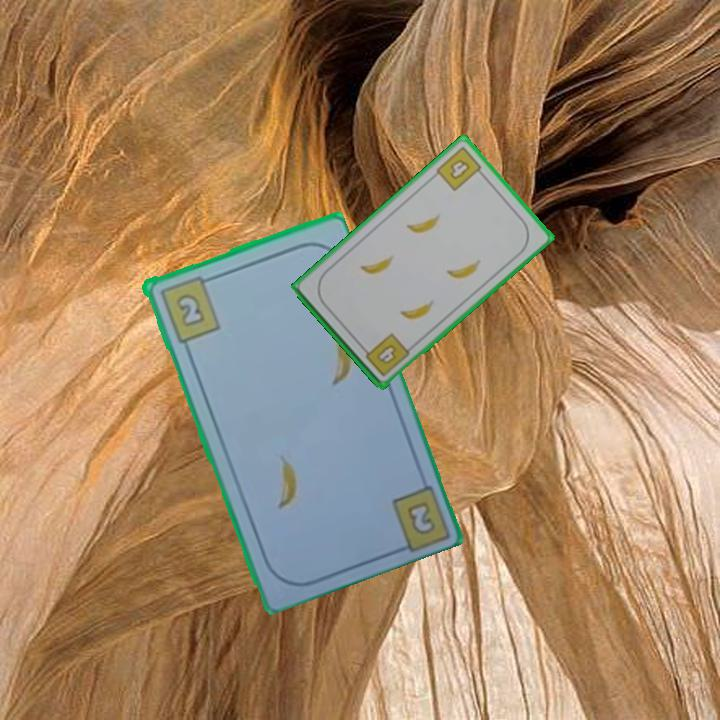2b: (155, 272, 223, 345), (402, 497, 439, 538)
4b: (432, 143, 488, 194), (358, 329, 412, 380)
